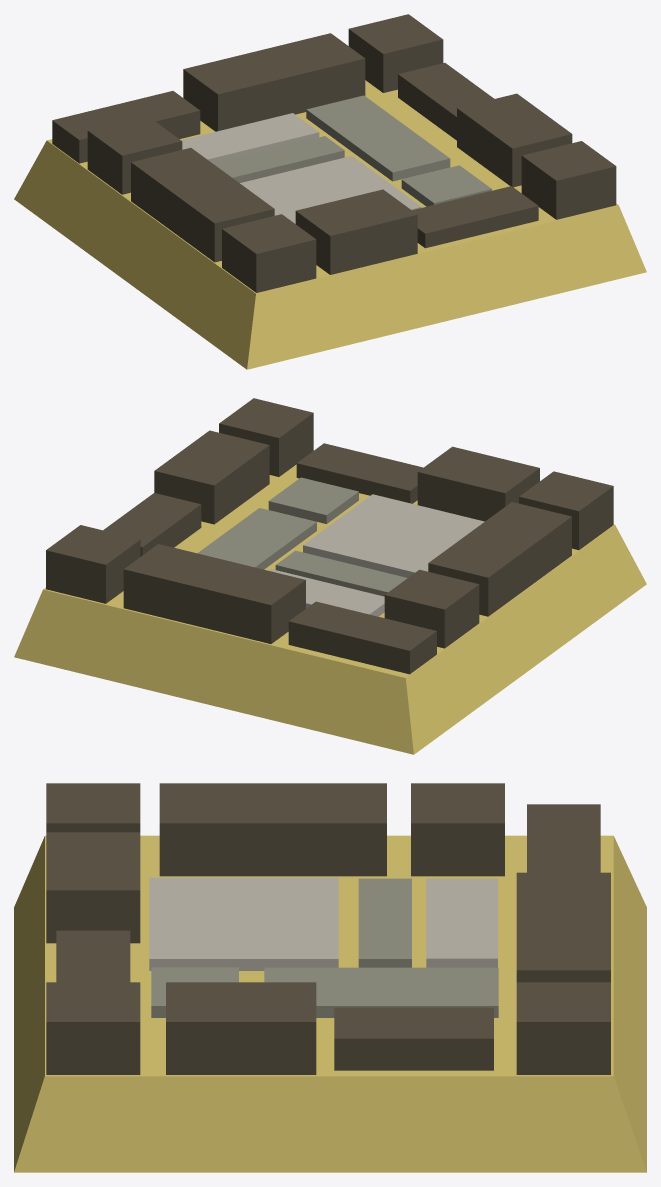
File: Single.fbx
3 renders of one model, top to bottom at view 1: azimuth 30°, elevation 25°; view 2: azimuth 150°, elevation 25°; view 3: azimuth 270°, elevation 25°, orthographic. The views are drawn at different scales.
Parts seen in each view (by area): view 1: Stone - Single; view 2: Stone - Single; view 3: Stone - Single.
Boxes of the visible parts, <box> form: Stone - Single: <box>14,14,646,369</box>; Stone - Single: <box>14,398,646,754</box>; Stone - Single: <box>14,783,646,1172</box>.
Bounding box in the file's own units: 66.67 × 19.07 × 67.28.
